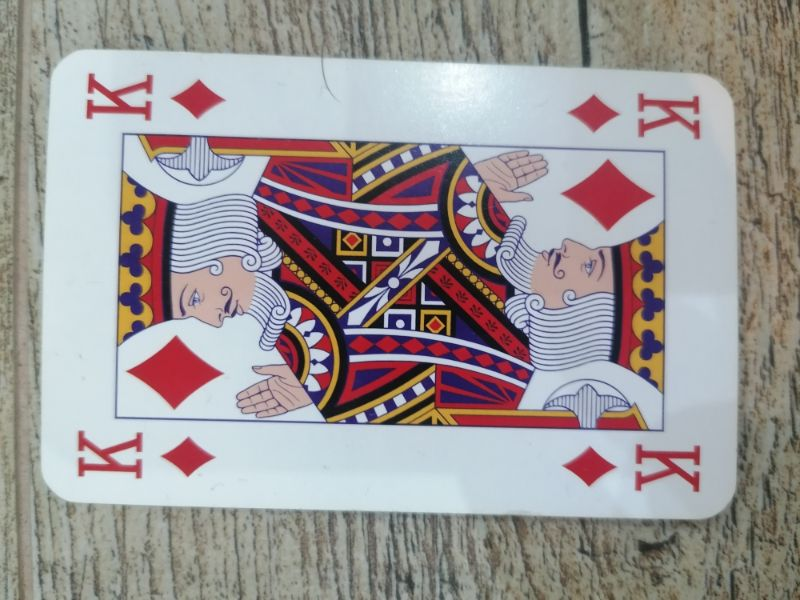Kd: (80, 67, 236, 132), (67, 426, 222, 490), (558, 438, 706, 498), (564, 87, 708, 147)
